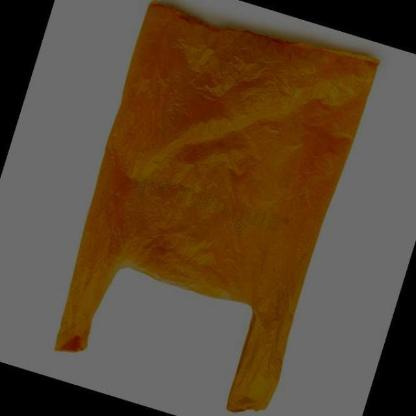Plastic Bag: (53, 0, 379, 416)
